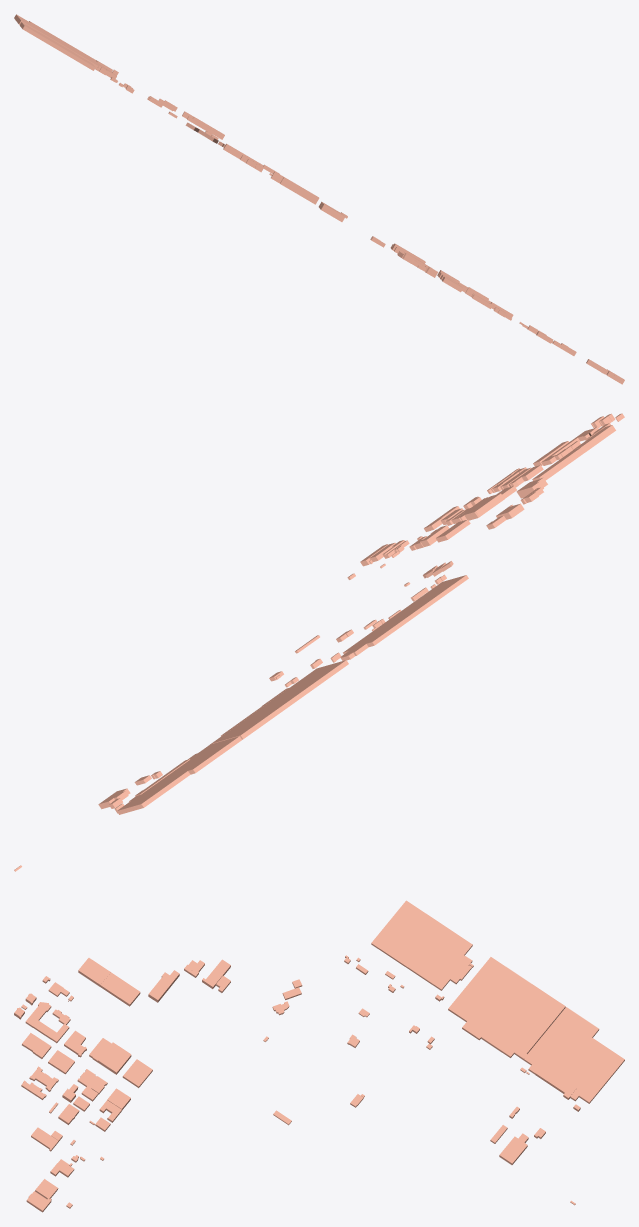
The picture shows the model from 3 angles, top to bottom: view 1: azimuth 30°, elevation 25°; view 2: azimuth 150°, elevation 25°; view 3: azimuth 270°, elevation 25°; orthographic projection. The views are drawn at different scales.
Size of the model in its own units: 623 by 455 by 1287.
